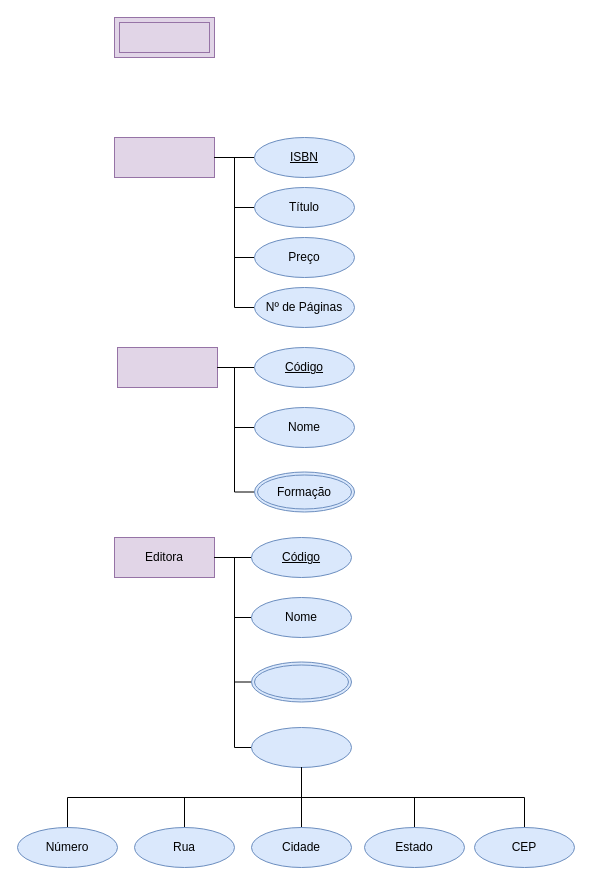
Some shapes in this 592 by 885 pixel diagram are drawn without their labels. The centre of each missing label's shape, as x and y in pixels:
Autor: [167,367]
Cópia: [164,37]
Emails: [301,681]
Endereço: [301,747]
Livro: [164,157]
